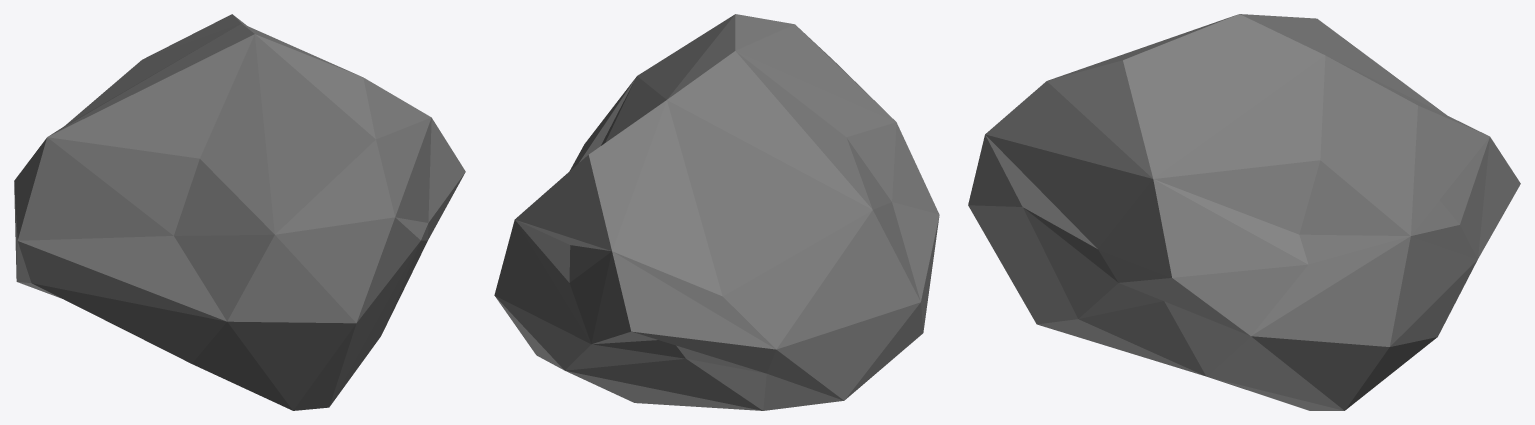
The model's file is Rock3.fbx.
3 renders of one model, left to right at view 1: azimuth 30°, elevation 25°; view 2: azimuth 150°, elevation 25°; view 3: azimuth 270°, elevation 25°, orthographic. The views are drawn at different scales.
Visible parts, largest first — view 1: Rock3; view 2: Rock3; view 3: Rock3.
Part boxes in pixels (x1,y1,x2,y2): Rock3: (14, 14, 465, 410); Rock3: (494, 14, 939, 410); Rock3: (968, 14, 1520, 410).
Size of the model in its own units: 1.85 by 1.52 by 2.1.
